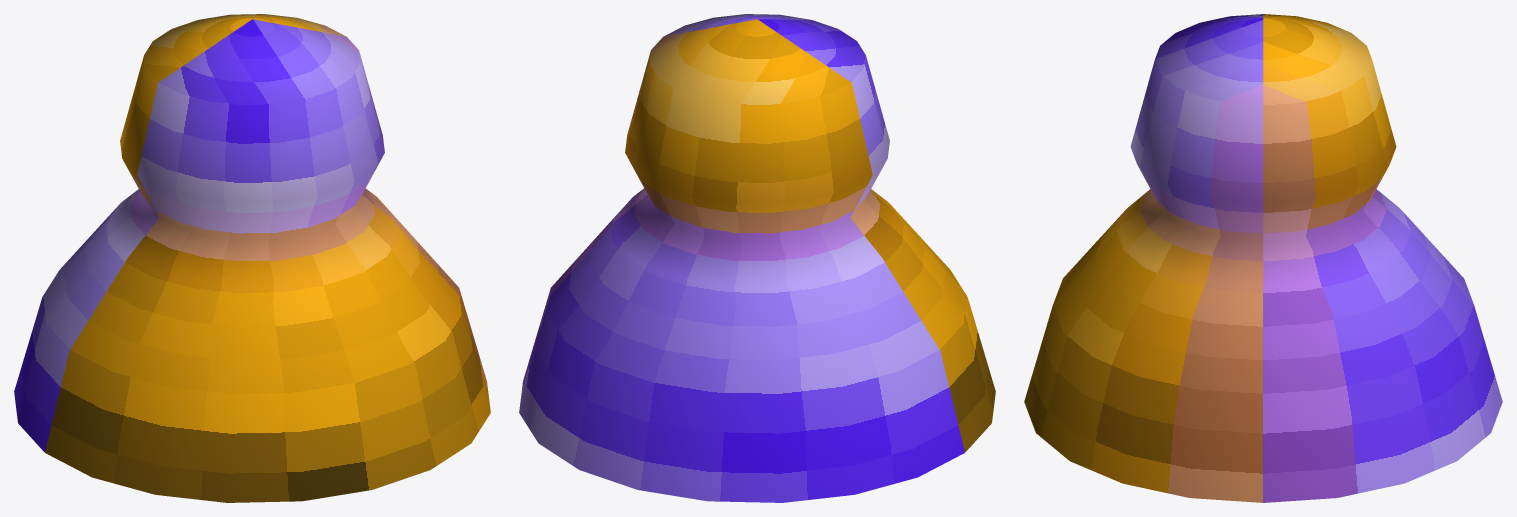
File: ToqueTestThickness.fbx
The picture shows the model from 3 angles, left to right: view 1: azimuth 30°, elevation 25°; view 2: azimuth 150°, elevation 25°; view 3: azimuth 270°, elevation 25°; orthographic projection.
Parts seen in each view (by area): view 1: pCylinder3; view 2: pCylinder3; view 3: pCylinder3.
Part boxes in pixels (box(x1,y1,x2,y2)): pCylinder3: box(14, 14, 490, 502); pCylinder3: box(519, 14, 995, 502); pCylinder3: box(1024, 14, 1502, 502).
Bounding box in the file's own units: 15.08 × 13.39 × 15.08.
